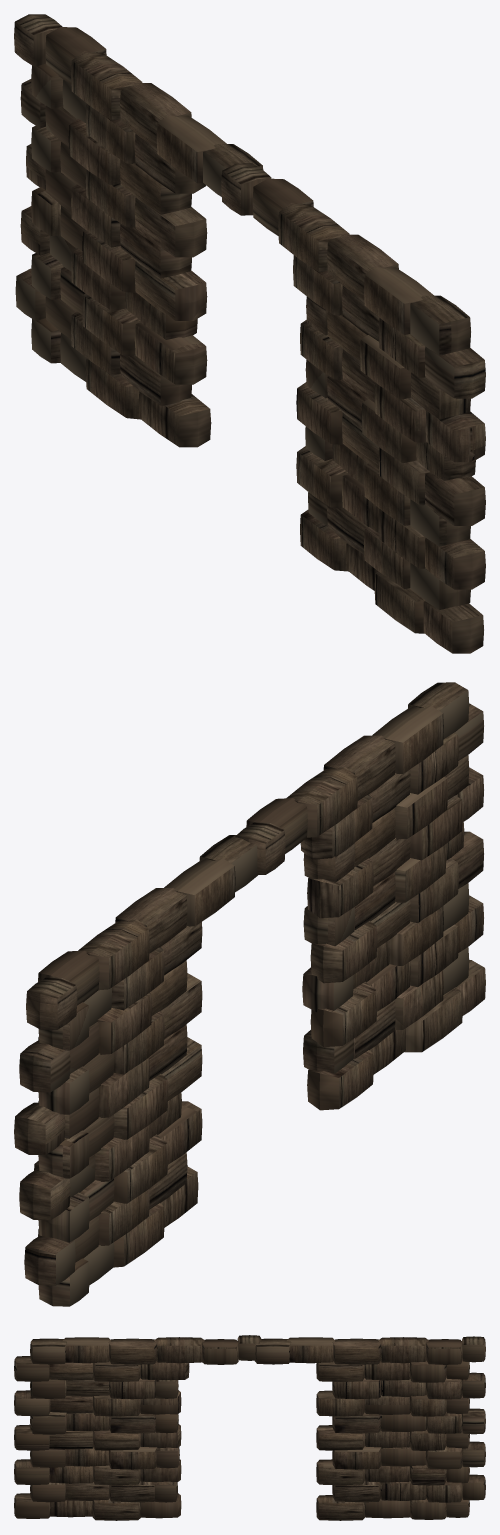
File: ParedArco_New.fbx
The picture shows the model from 3 angles, top to bottom: view 1: azimuth 30°, elevation 25°; view 2: azimuth 150°, elevation 25°; view 3: azimuth 270°, elevation 25°; orthographic projection. The views are drawn at different scales.
Parts seen in each view (by area): view 1: Pared_Piedra010; view 2: Pared_Piedra010; view 3: Pared_Piedra010.
Part boxes in pixels (x1,y1,x2,y2): Pared_Piedra010: (14, 14, 485, 653); Pared_Piedra010: (14, 682, 485, 1306); Pared_Piedra010: (14, 1335, 485, 1520).
Bounding box in the file's own units: 71.41 × 447 × 1080.
